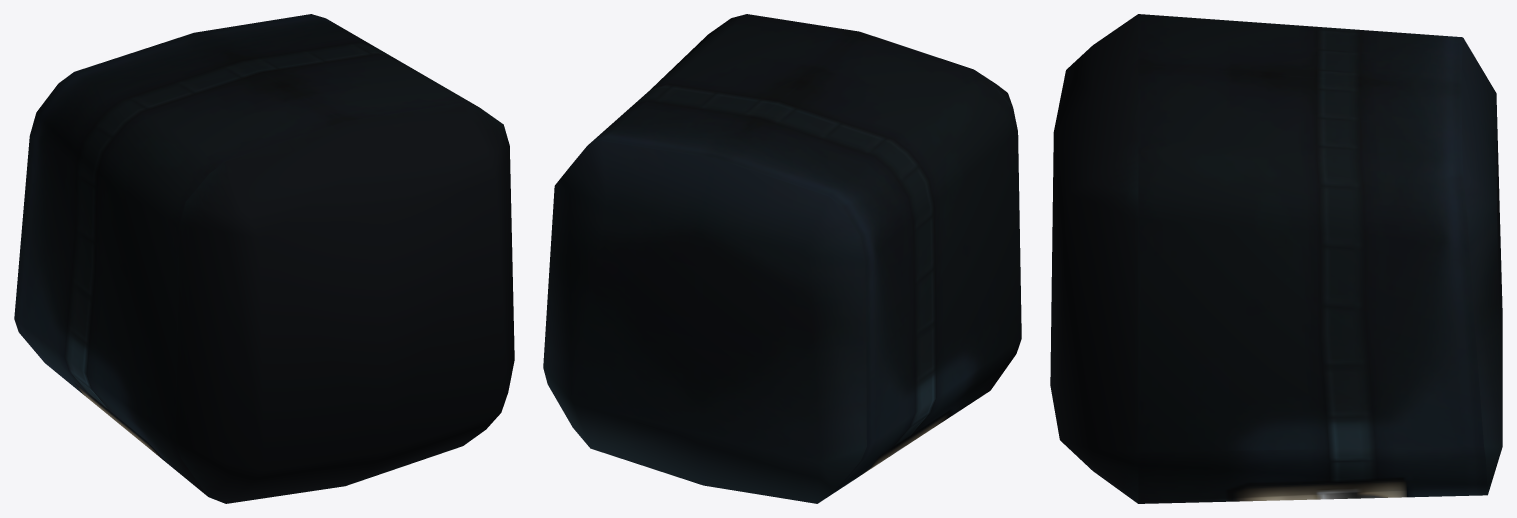
Rendered from Avatar_Swat_H_01_Head_4_c7070b94__Avatar_Swat_C_e19fe5cc_c1f257.obj.
3 views of the same model, side by side, from view 1: azimuth 30°, elevation 25°; view 2: azimuth 150°, elevation 25°; view 3: azimuth 270°, elevation 25° (orthographic). The views are drawn at different scales.
Size of the model in its own units: 0.6857 by 0.7049 by 0.7416.
1 material, 1 textured.
